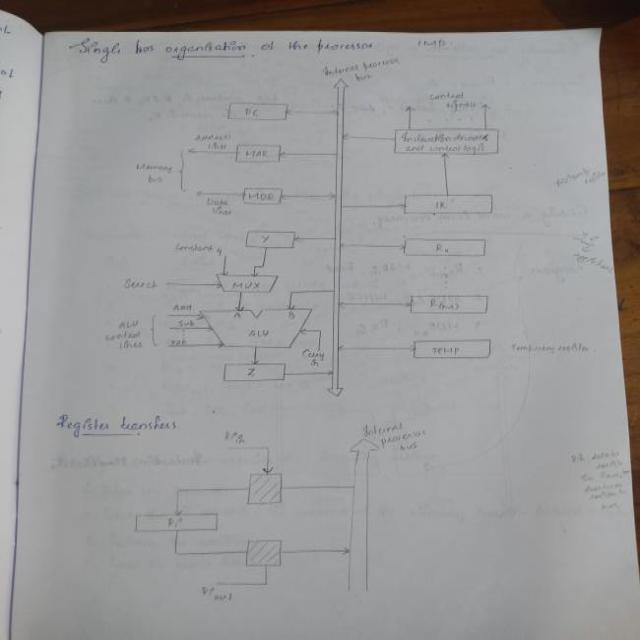Figure Detection - v3 Dataset Version2: (88, 52, 596, 408), (106, 415, 453, 624)
